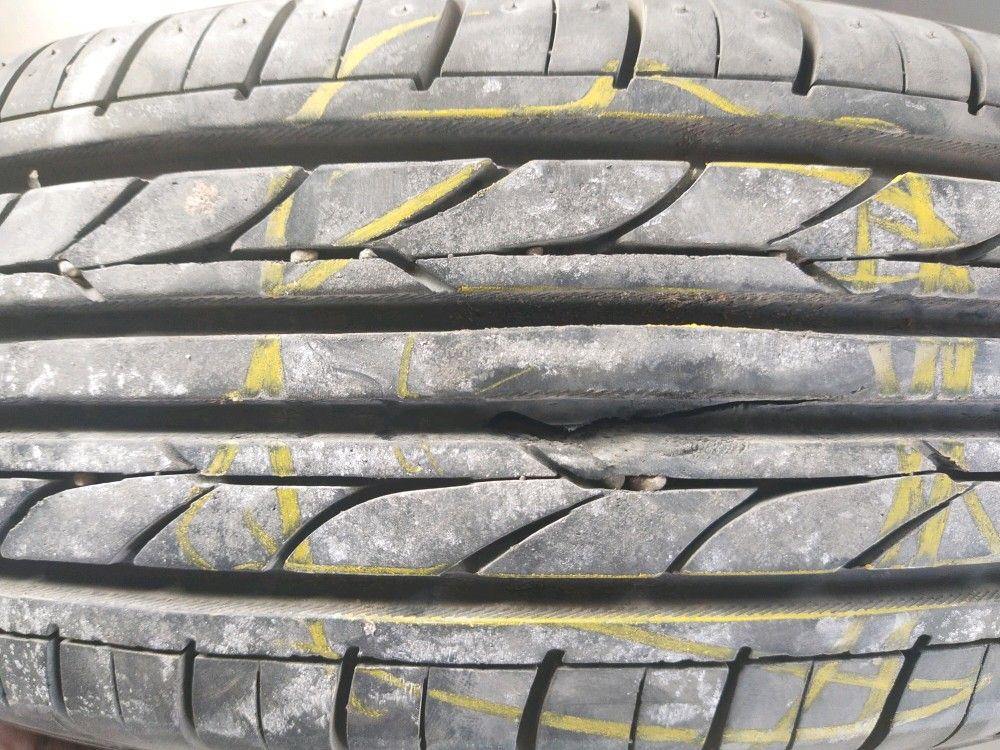tr: (462, 392, 848, 447)
